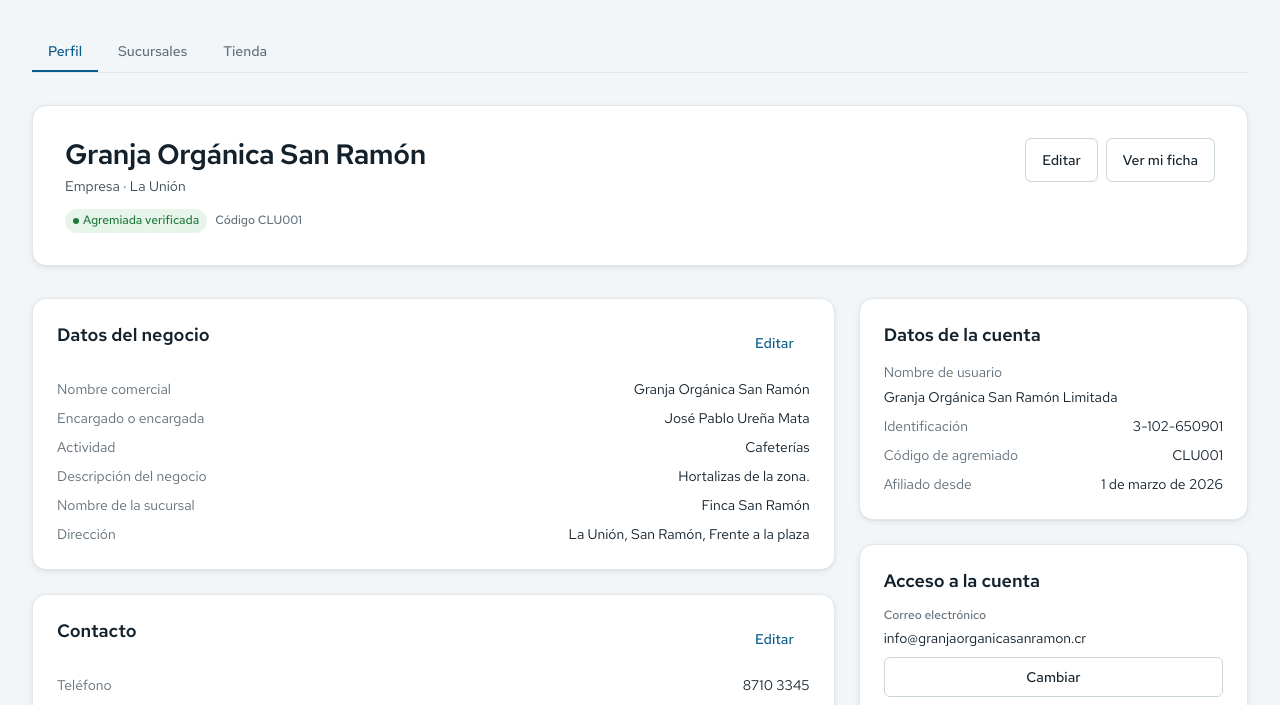
Test case: the profile screen › asks for the address change instead of applying it
Check: the heading "Granja Orgánica San Ramón" is shown, box [65, 138, 426, 172]
Click the button "Cambiar": (1053, 677) [884, 657, 1223, 697]
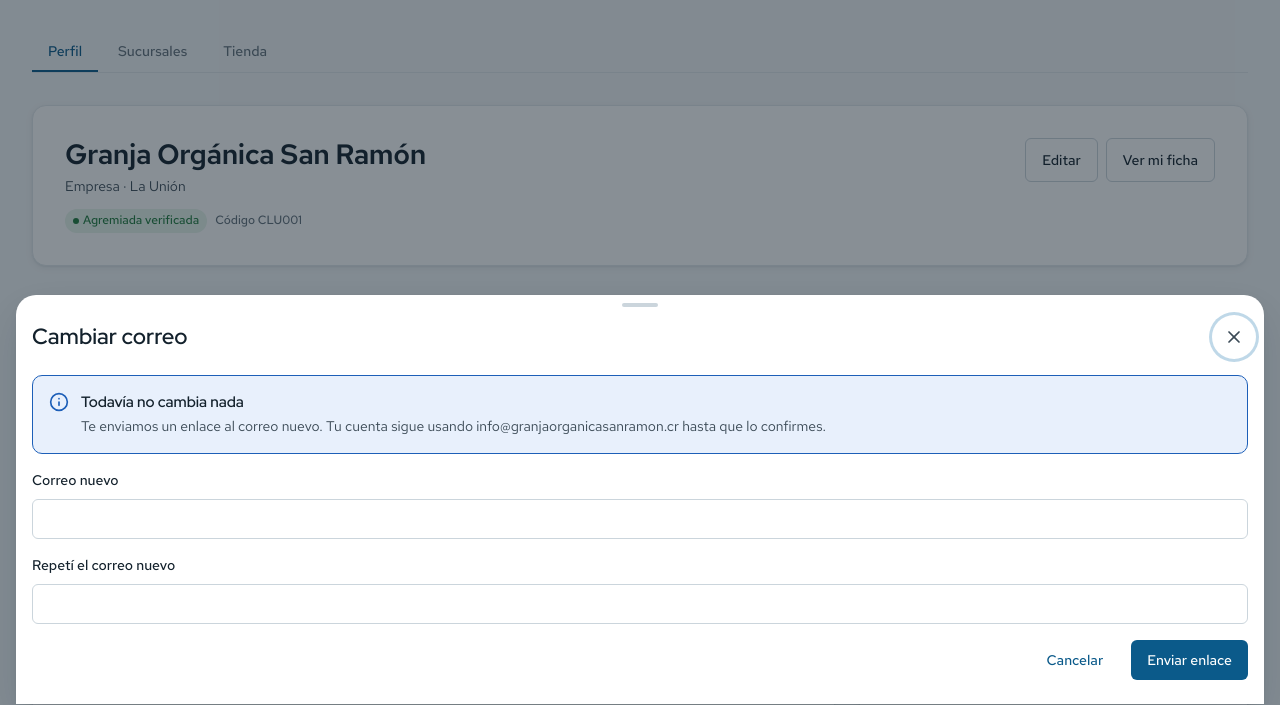
In the field labelled "Correo nuevo": (640, 519) [32, 499, 1248, 539], type "nuevo@example.cr"
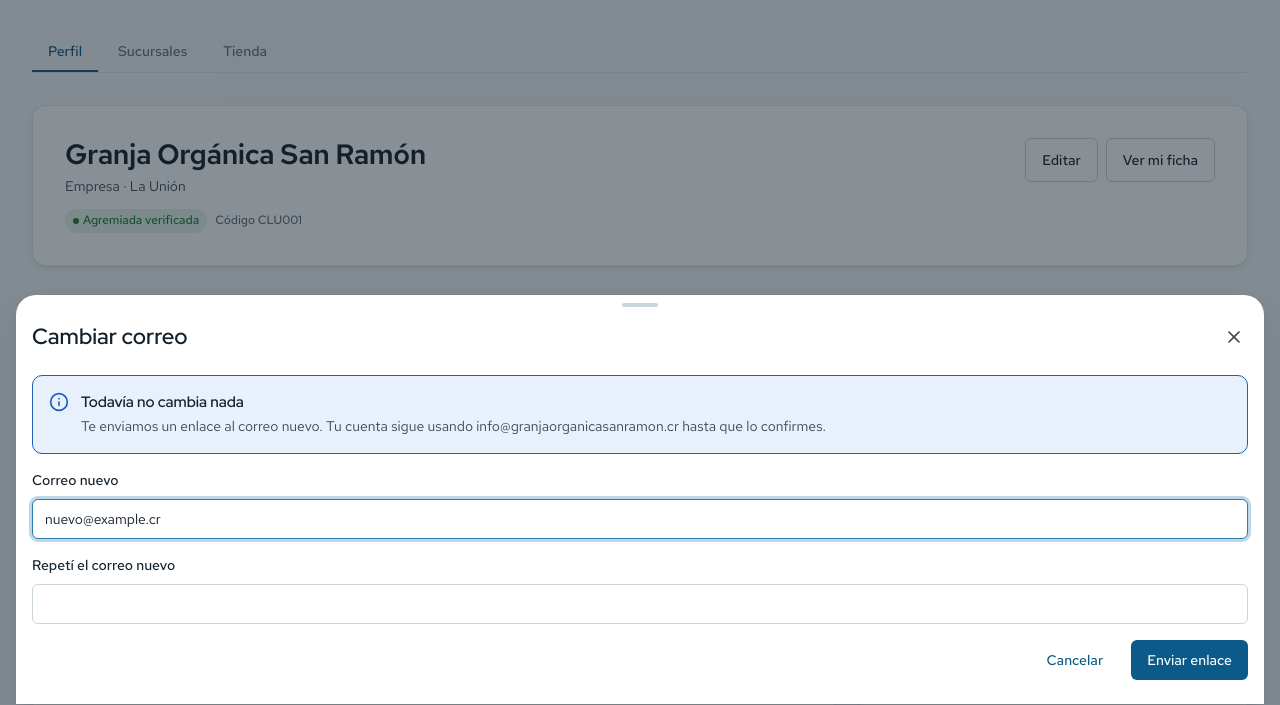
In the field labelled "Repetí el correo nuevo": (640, 604) [32, 584, 1248, 624], type "nuevo@example.cr"
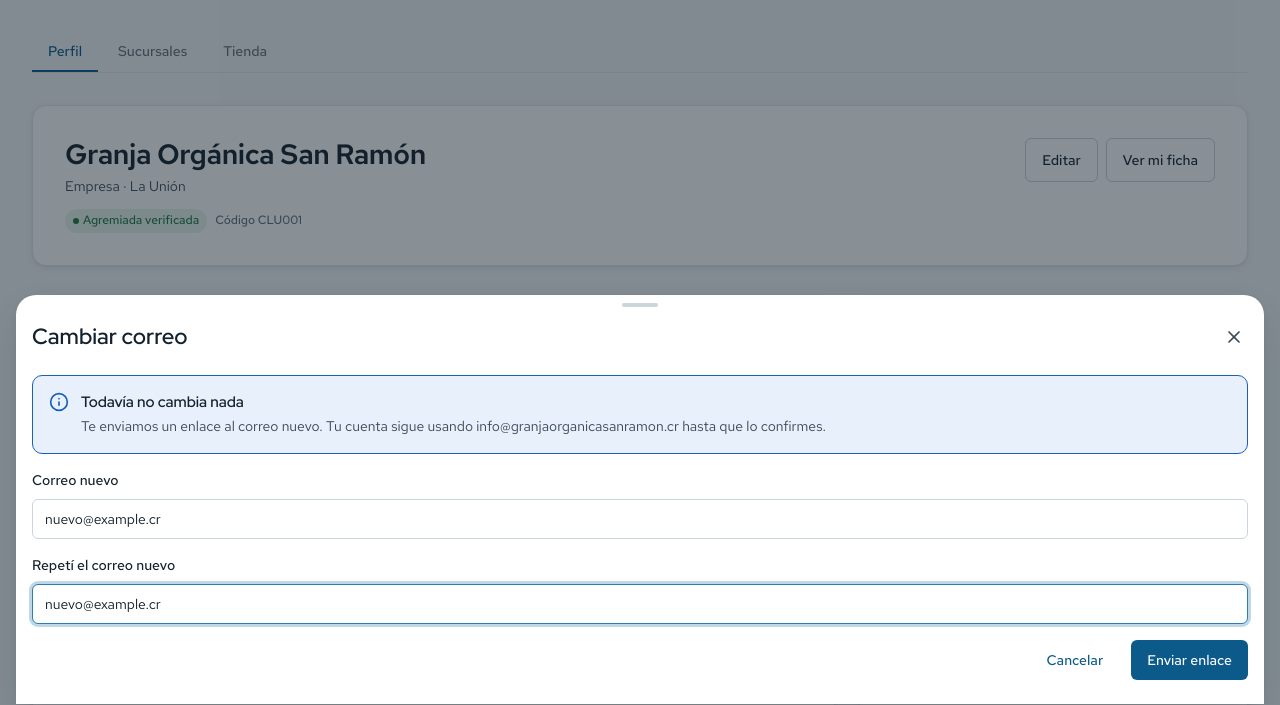
Click the button "Enviar enlace": (1190, 660) [1131, 640, 1248, 680]
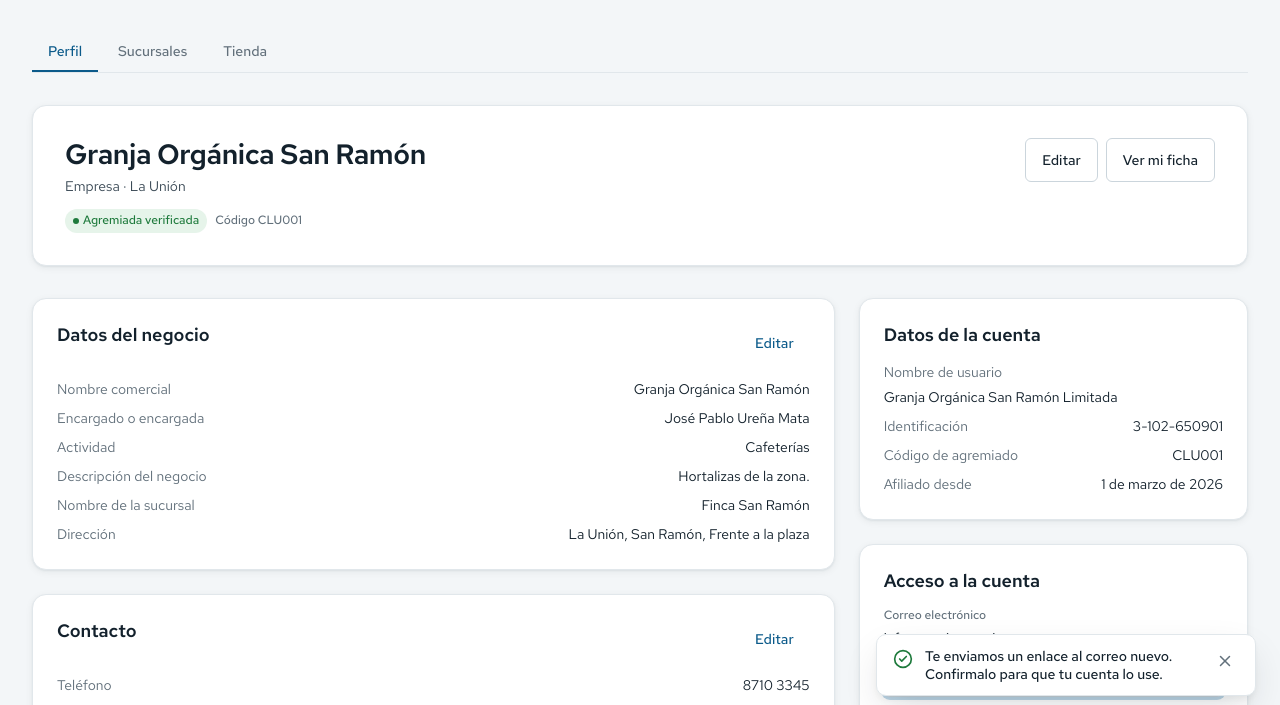
Check: the text "Te enviamos un enlace al correo nuevo" is shown, box [925, 647, 1172, 683]
